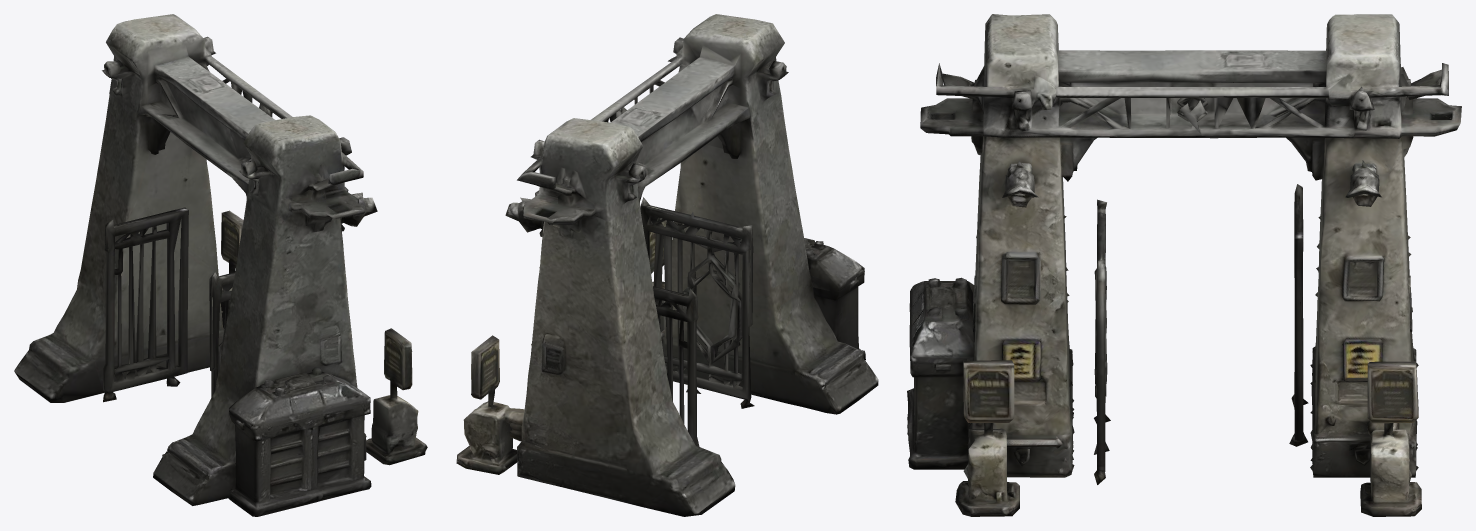
The model's file is xd_gate.glb.
3 renders of one model, left to right at view 1: azimuth 30°, elevation 25°; view 2: azimuth 150°, elevation 25°; view 3: azimuth 270°, elevation 25°, orthographic. The views are drawn at different scales.
Parts seen in each view (by area): view 1: tripo_node_491b3891-18c1-4ad1-ba81-45bce286c712; view 2: tripo_node_491b3891-18c1-4ad1-ba81-45bce286c712; view 3: tripo_node_491b3891-18c1-4ad1-ba81-45bce286c712.
Part boxes in pixels (x1,y1,x2,y2): tripo_node_491b3891-18c1-4ad1-ba81-45bce286c712: (14, 14, 427, 516); tripo_node_491b3891-18c1-4ad1-ba81-45bce286c712: (456, 14, 878, 516); tripo_node_491b3891-18c1-4ad1-ba81-45bce286c712: (907, 14, 1461, 516).
Bounding box in the file's own units: 0.6008 × 0.8206 × 0.9842.
1 material, 1 textured.
